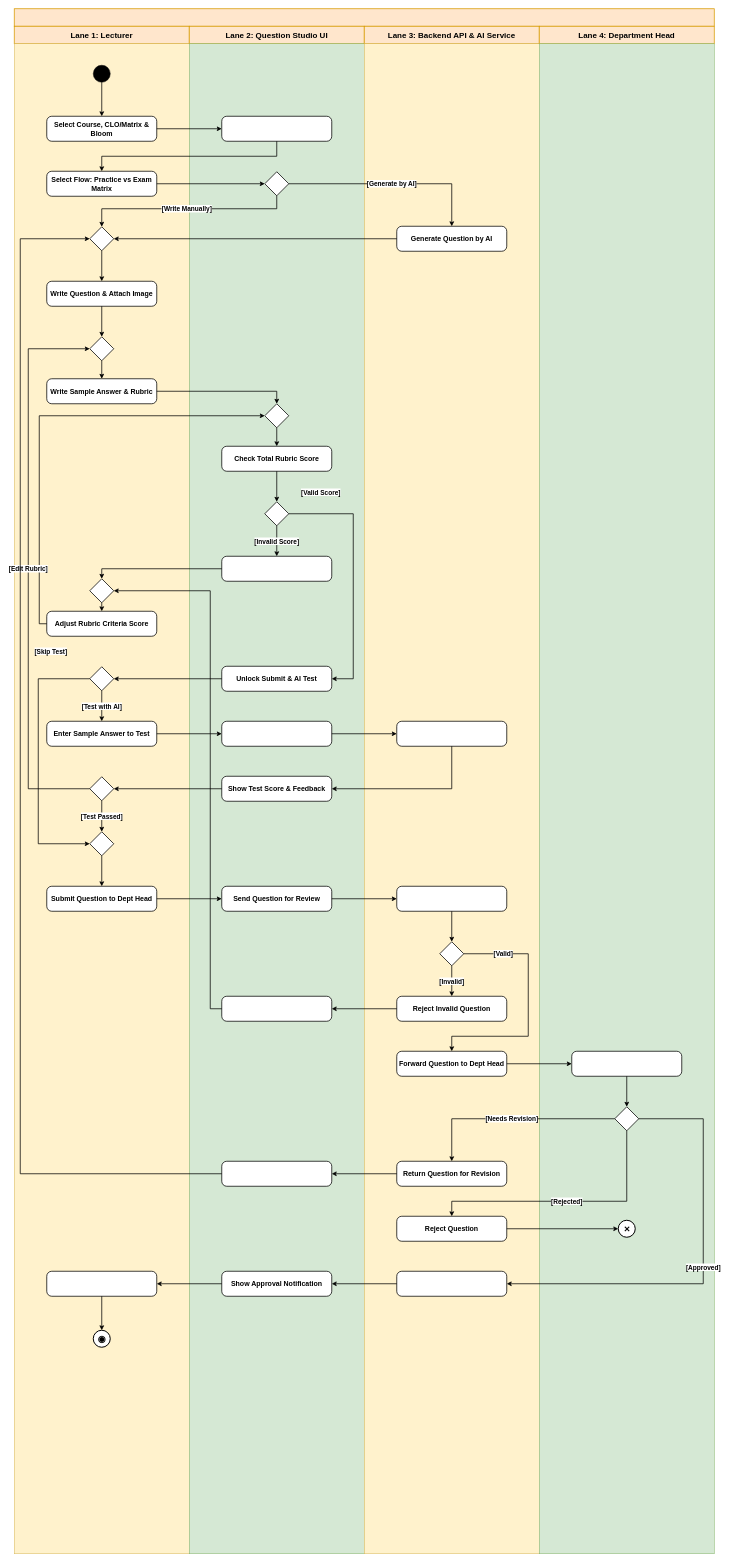
Image size: 729x1563. Some labels were removed from this diagram. The shapes that lost their labels are listed below. From the top down, each one's box as (x1, y1, x2, y2) in pixels, then its label:
(14, 8, 714, 26): MF-03: Question Bank & Rubric Studio Process
(221, 116, 332, 141): Load CLOs & Dept Head Matrix
(221, 556, 332, 581): Show Score Error & Lock Submit
(221, 721, 332, 746): Send AI Test Request
(396, 721, 507, 746): Grade Test Answer by AI
(396, 886, 507, 911): Validate Rubric & Sample Answer
(221, 996, 332, 1021): Show Validation Error
(571, 1051, 682, 1076): Review Question & Rubric
(221, 1161, 332, 1186): Show Revision Feedback
(46, 1271, 157, 1296): View Question in Bank
(396, 1271, 507, 1296): Approve to Practice / Exam Bank
